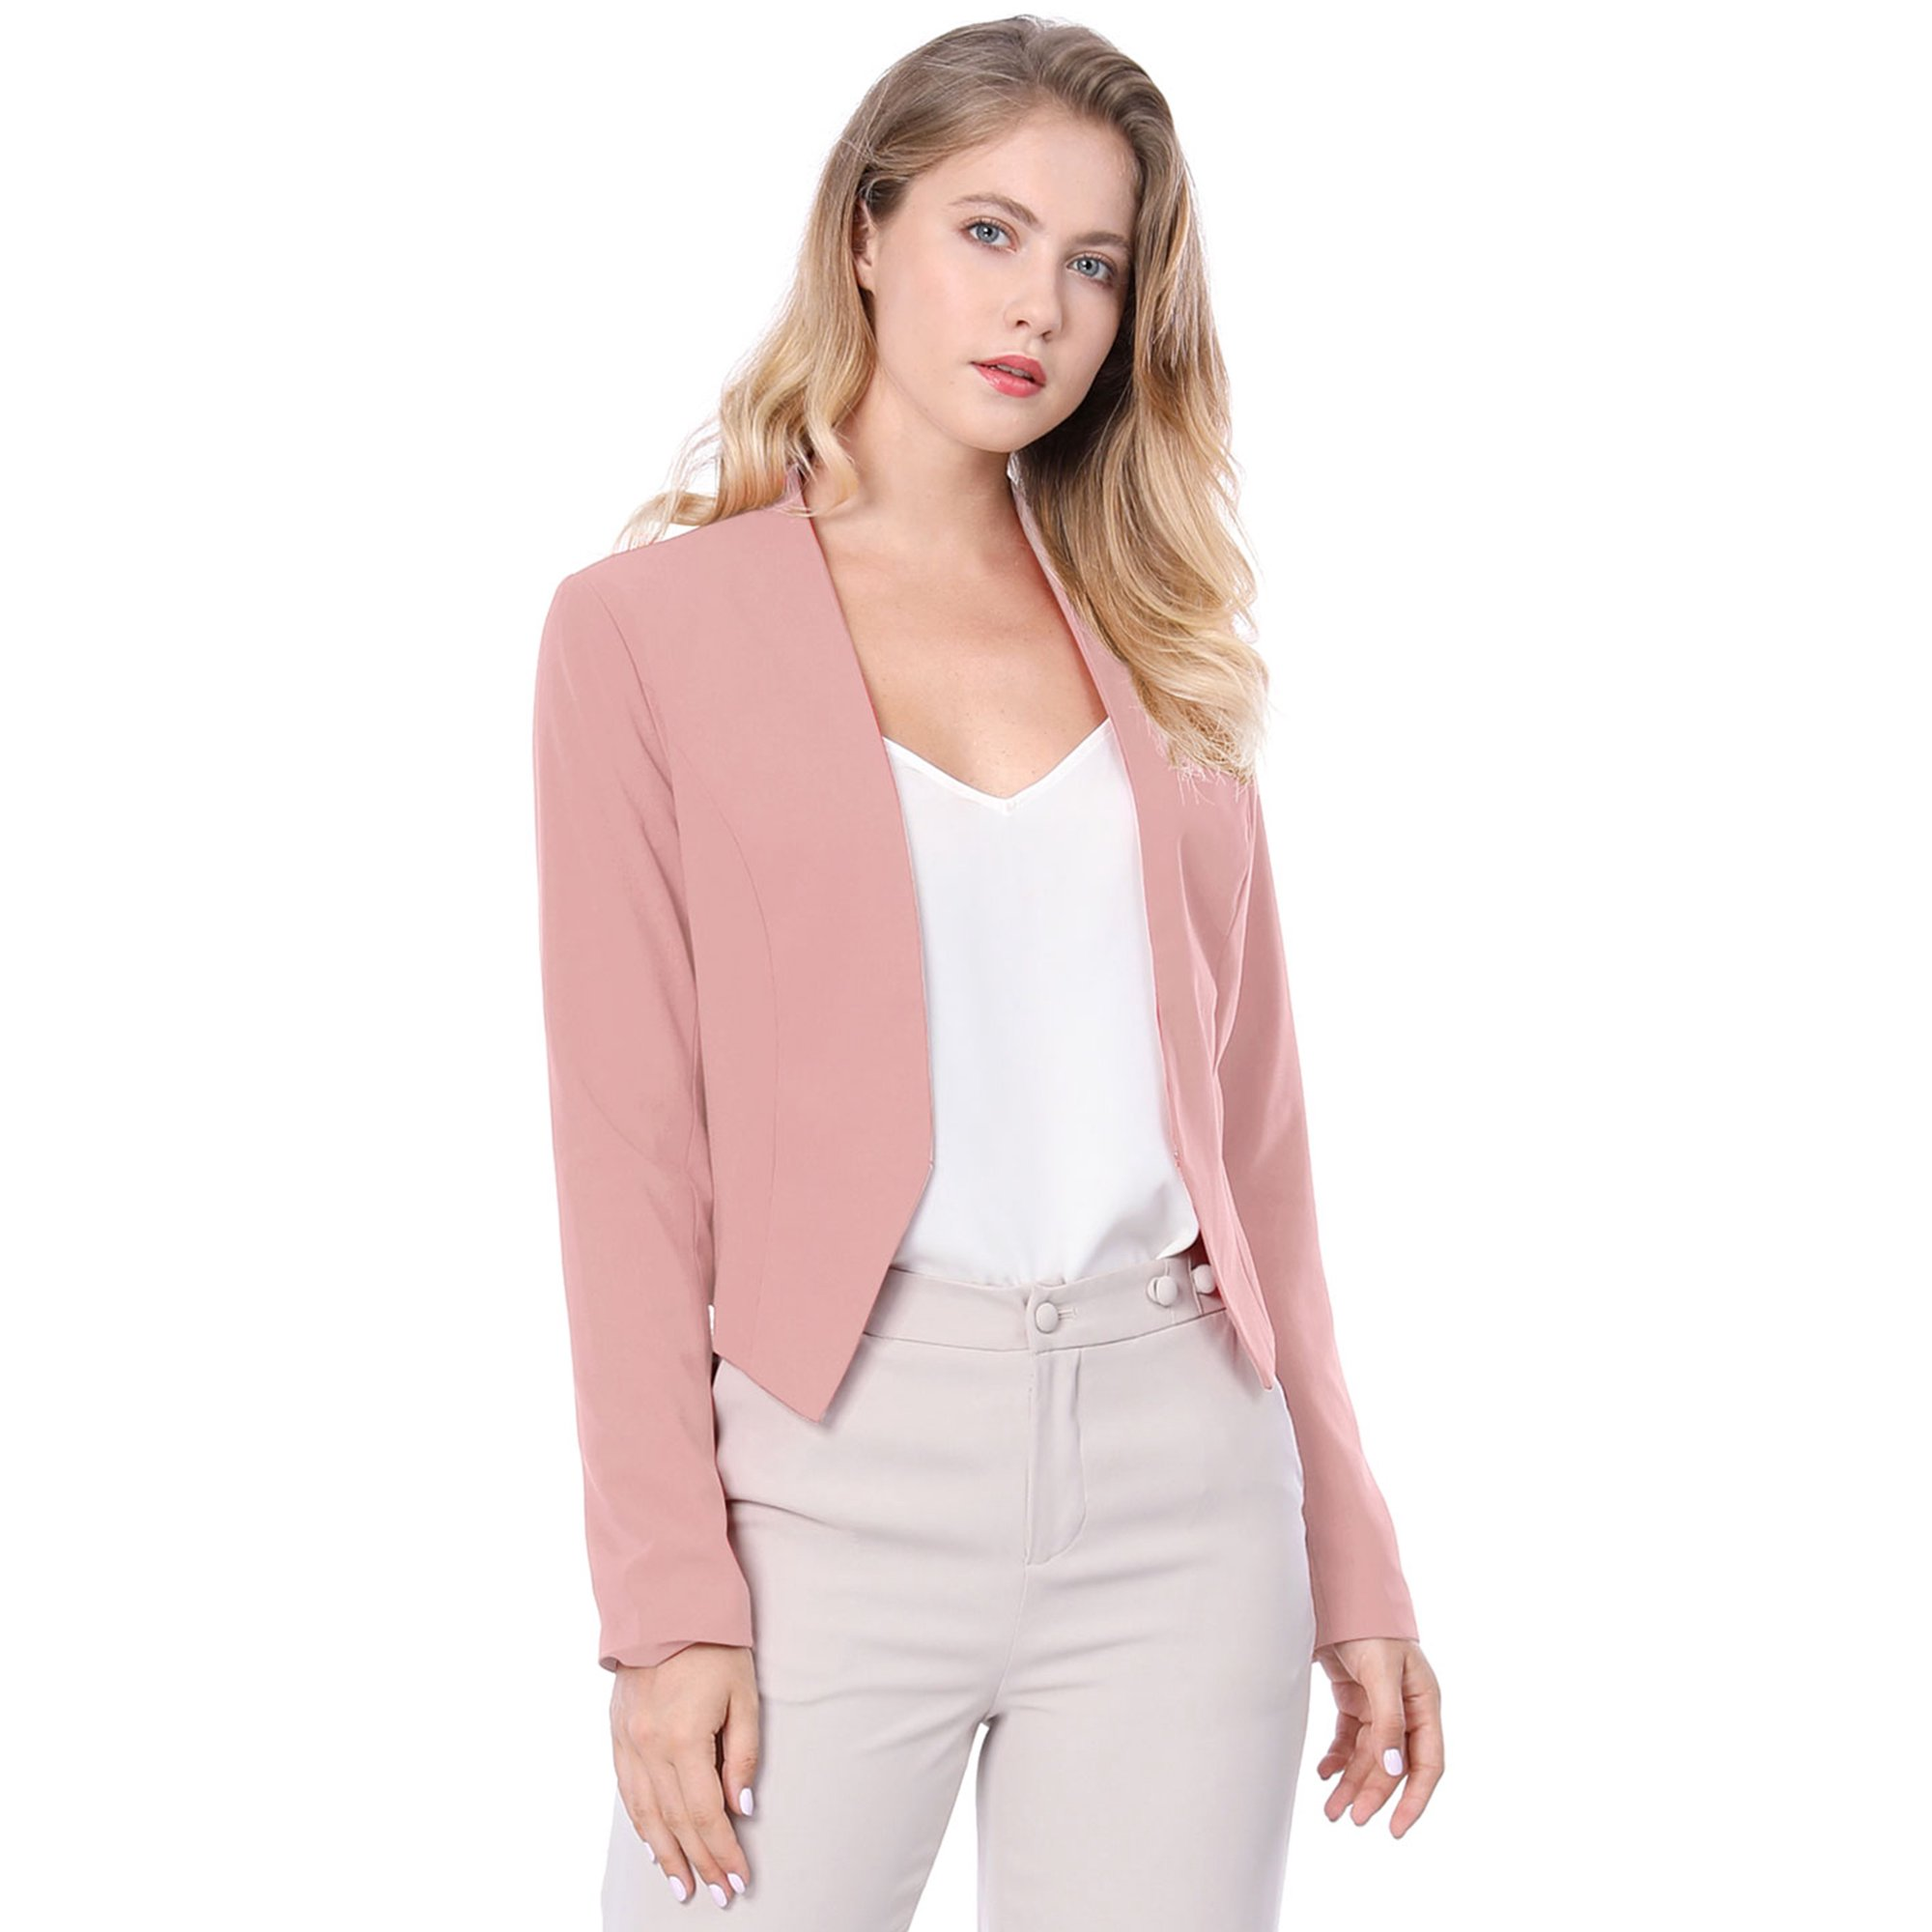F_W_suit jacket: (518, 448, 1440, 1670)
